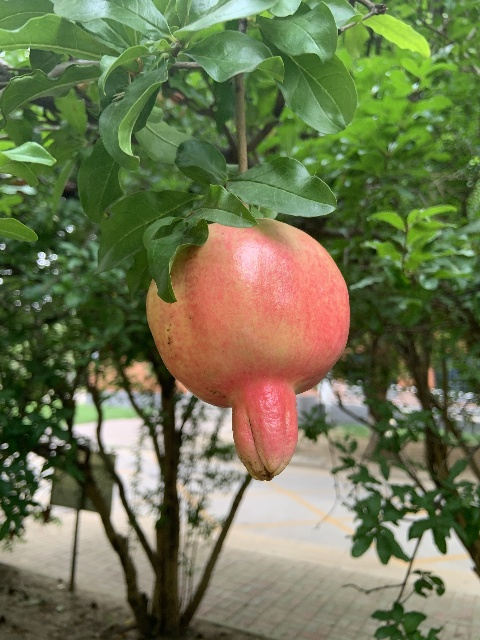ripe: (145, 218, 350, 482)
